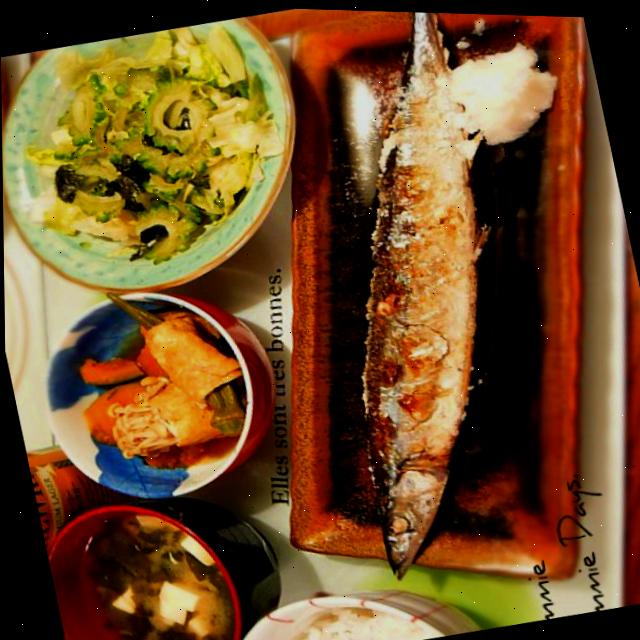汤锅炖物: (38, 482, 264, 640)
熟制海鲜: (214, 5, 640, 600)
米饭主食: (207, 540, 499, 640)
蔬菜料理: (0, 0, 338, 305)
